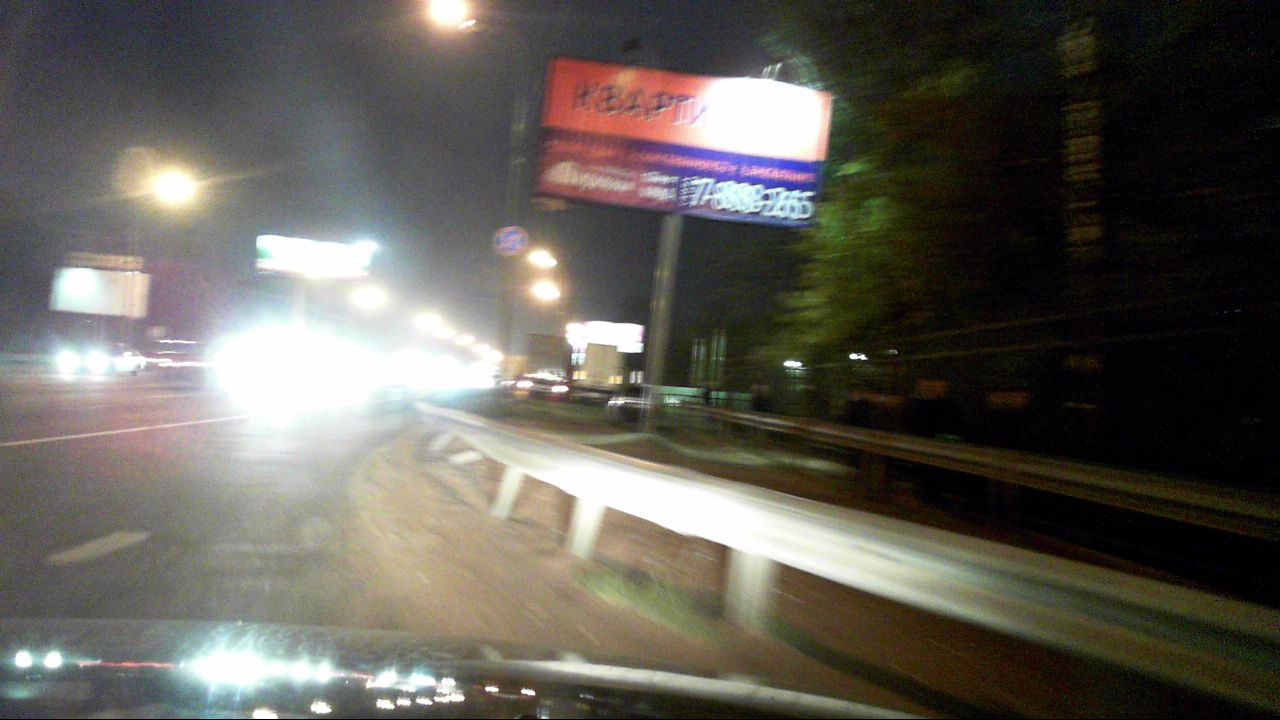No Parking: (493, 225, 524, 257)
